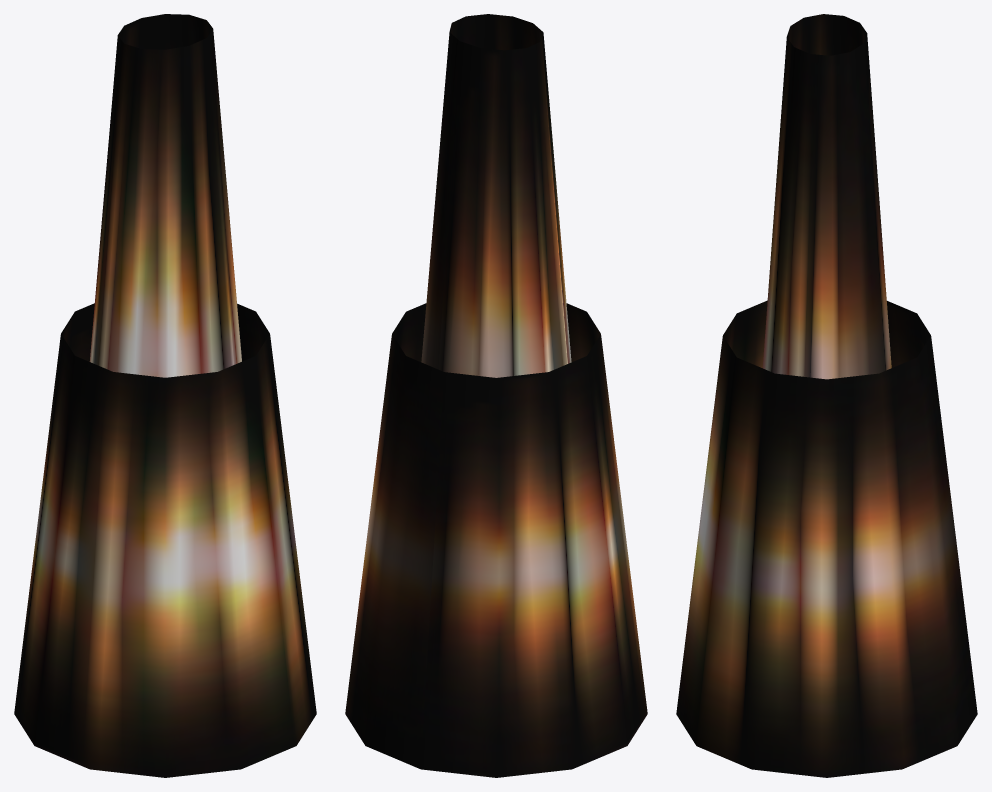
File: fx_fbx_aerolite_tail.FBX
3 renders of one model, left to right at view 1: azimuth 30°, elevation 25°; view 2: azimuth 150°, elevation 25°; view 3: azimuth 270°, elevation 25°, orthographic.
Visible parts, largest first — view 1: Cylinder001; view 2: Cylinder001; view 3: Cylinder001.
Boxes of the visible parts, bbox=[...] form: Cylinder001: bbox=[14, 14, 316, 777]; Cylinder001: bbox=[345, 14, 647, 777]; Cylinder001: bbox=[676, 14, 977, 777].
Bounding box in the file's own units: 362 × 362 × 899.
1 material, 1 textured.
